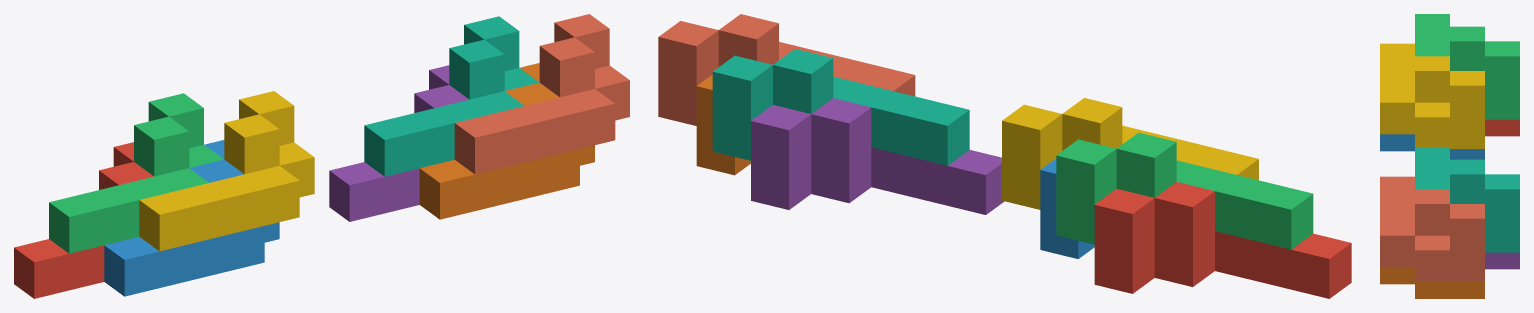
Rendered from tiling.obj.
The picture shows the model from 3 angles, left to right: view 1: azimuth 30°, elevation 25°; view 2: azimuth 150°, elevation 25°; view 3: azimuth 270°, elevation 25°; orthographic projection. The views are drawn at different scales.
Visible parts, largest first — view 1: copy_1_domain_8, copy_1_domain_4, copy_1_domain_7, copy_1_domain_3, copy_1_domain_2, copy_1_domain_6, copy_1_domain_5, copy_1_domain_1; view 2: copy_1_domain_1, copy_1_domain_5, copy_1_domain_7, copy_1_domain_3, copy_1_domain_8, copy_1_domain_4, copy_1_domain_2, copy_1_domain_6; view 3: copy_1_domain_8, copy_1_domain_4, copy_1_domain_3, copy_1_domain_7, copy_1_domain_6, copy_1_domain_2, copy_1_domain_1, copy_1_domain_5.
Boxes of the visible parts, x1,y1,x2,y2 form: copy_1_domain_8: (454, 14, 629, 174); copy_1_domain_4: (139, 91, 314, 251); copy_1_domain_7: (364, 16, 539, 176); copy_1_domain_3: (49, 93, 223, 253); copy_1_domain_2: (104, 140, 279, 296); copy_1_domain_6: (419, 63, 594, 219); copy_1_domain_5: (329, 65, 468, 221); copy_1_domain_1: (14, 142, 153, 298); copy_1_domain_1: (1094, 182, 1351, 298); copy_1_domain_5: (751, 98, 1004, 214); copy_1_domain_7: (712, 49, 969, 165); copy_1_domain_3: (1056, 132, 1313, 249); copy_1_domain_8: (658, 14, 915, 125); copy_1_domain_4: (1002, 98, 1258, 209); copy_1_domain_2: (1040, 158, 1094, 259); copy_1_domain_6: (696, 75, 750, 175); copy_1_domain_8: (1380, 176, 1484, 281); copy_1_domain_4: (1380, 43, 1484, 148); copy_1_domain_3: (1415, 14, 1519, 119); copy_1_domain_7: (1415, 147, 1519, 252); copy_1_domain_6: (1380, 267, 1484, 298); copy_1_domain_2: (1380, 134, 1484, 159); copy_1_domain_1: (1485, 119, 1519, 136); copy_1_domain_5: (1485, 252, 1519, 269).
Size of the model in its own units: 17 by 3 by 4.
